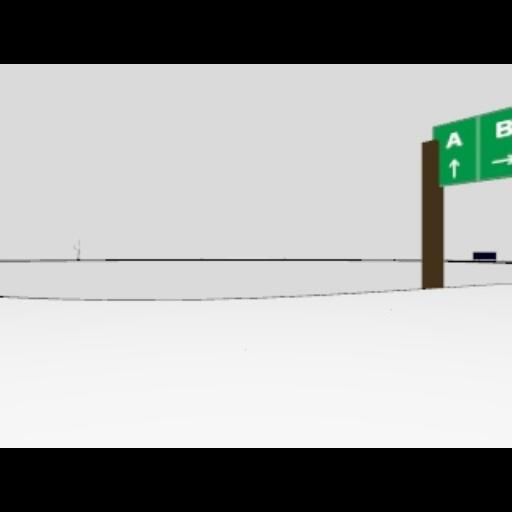A: (448, 132, 464, 150)
B: (495, 122, 511, 138)
Right: (486, 155, 512, 165)
Straight: (449, 158, 461, 178)
